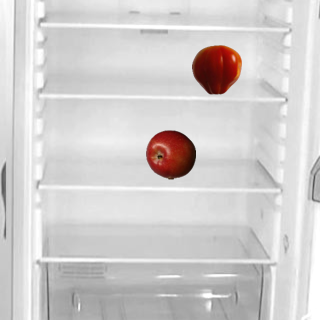Apple Braeburn: (145, 129, 195, 179)
Tomato 1: (191, 44, 241, 94)
